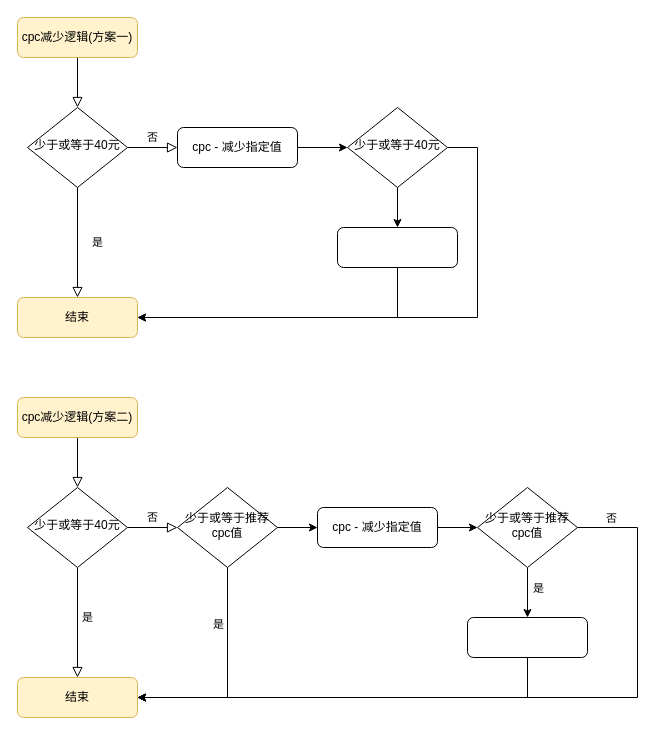
Some shapes in this 663 by 735 pixel diagram are drawn without their labels. The shapes that lost their labels are listed below. From the top down, each one's centre as x and y in pixels, then its label:
the point at 397,247: 修改为40元
the point at 527,637: cpc修改为推荐cpc值
